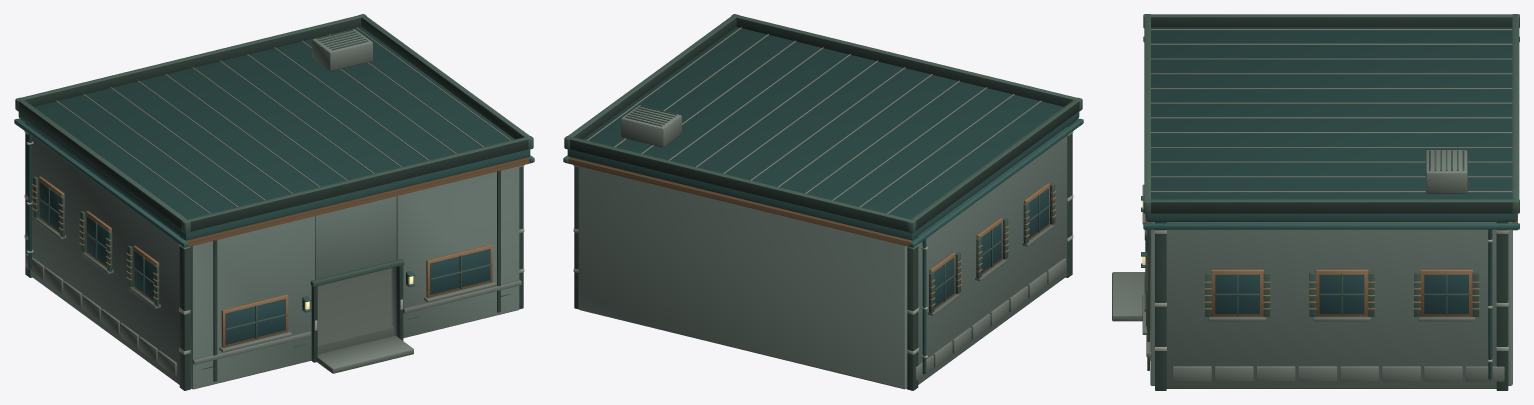
The model's file is kf-lab.glb.
3 views of the same model, side by side, from view 1: azimuth 30°, elevation 25°; view 2: azimuth 150°, elevation 25°; view 3: azimuth 270°, elevation 25° (orthographic). The views are drawn at different scales.
Parts seen in each view (by area): view 1: Roof Roof metal, Shell Painted plaster, RoofDetail Timber trim, Shell Foundation, Shell Timber trim, Shell Window glass, Shell Warm wood, RoofDetail Brushed hardware, Shell Roof metal, RoofDetail Foundation; view 2: Shell Painted plaster, Roof Roof metal, RoofDetail Timber trim, Shell Timber trim, RoofDetail Brushed hardware, Shell Warm wood, Shell Foundation, Shell Roof metal, Shell Window glass, RoofDetail Foundation; view 3: Roof Roof metal, Shell Painted plaster, RoofDetail Timber trim, RoofDetail Brushed hardware, Shell Foundation, Shell Timber trim, Shell Window glass, Shell Roof metal, Shell Warm wood, RoofDetail Foundation, Shell Brushed hardware.
Boxes of the visible parts, x1,y1,x2,y2 form: Roof Roof metal: [18, 27, 530, 240]; Shell Painted plaster: [30, 127, 519, 389]; RoofDetail Timber trim: [15, 14, 533, 233]; Shell Foundation: [25, 217, 521, 388]; Shell Timber trim: [25, 123, 523, 390]; Shell Window glass: [39, 181, 490, 344]; Shell Warm wood: [17, 119, 532, 347]; RoofDetail Brushed hardware: [56, 27, 510, 213]; Shell Roof metal: [14, 118, 534, 312]; RoofDetail Foundation: [312, 29, 372, 71]; Shell Painted plaster: [578, 127, 1067, 389]; Roof Roof metal: [567, 27, 1079, 240]; RoofDetail Timber trim: [564, 14, 1082, 233]; Shell Timber trim: [574, 123, 1072, 390]; RoofDetail Brushed hardware: [587, 27, 1041, 213]; Shell Warm wood: [565, 119, 1080, 309]; Shell Foundation: [906, 224, 1066, 388]; Shell Roof metal: [563, 118, 1083, 374]; Shell Window glass: [934, 188, 1048, 307]; RoofDetail Foundation: [621, 105, 681, 147]; Roof Roof metal: [1146, 27, 1517, 221]; Shell Painted plaster: [1150, 222, 1512, 388]; RoofDetail Timber trim: [1143, 14, 1519, 213]; RoofDetail Brushed hardware: [1151, 29, 1512, 192]; Shell Foundation: [1112, 184, 1504, 381]; Shell Timber trim: [1144, 214, 1508, 390]; Shell Window glass: [1146, 259, 1468, 326]; Shell Roof metal: [1141, 36, 1519, 379]; Shell Warm wood: [1145, 213, 1517, 330]; RoofDetail Foundation: [1425, 150, 1467, 193]; Shell Brushed hardware: [1144, 230, 1508, 362].
Size of the model in its own units: 12.88 by 6.51 by 11.7.
